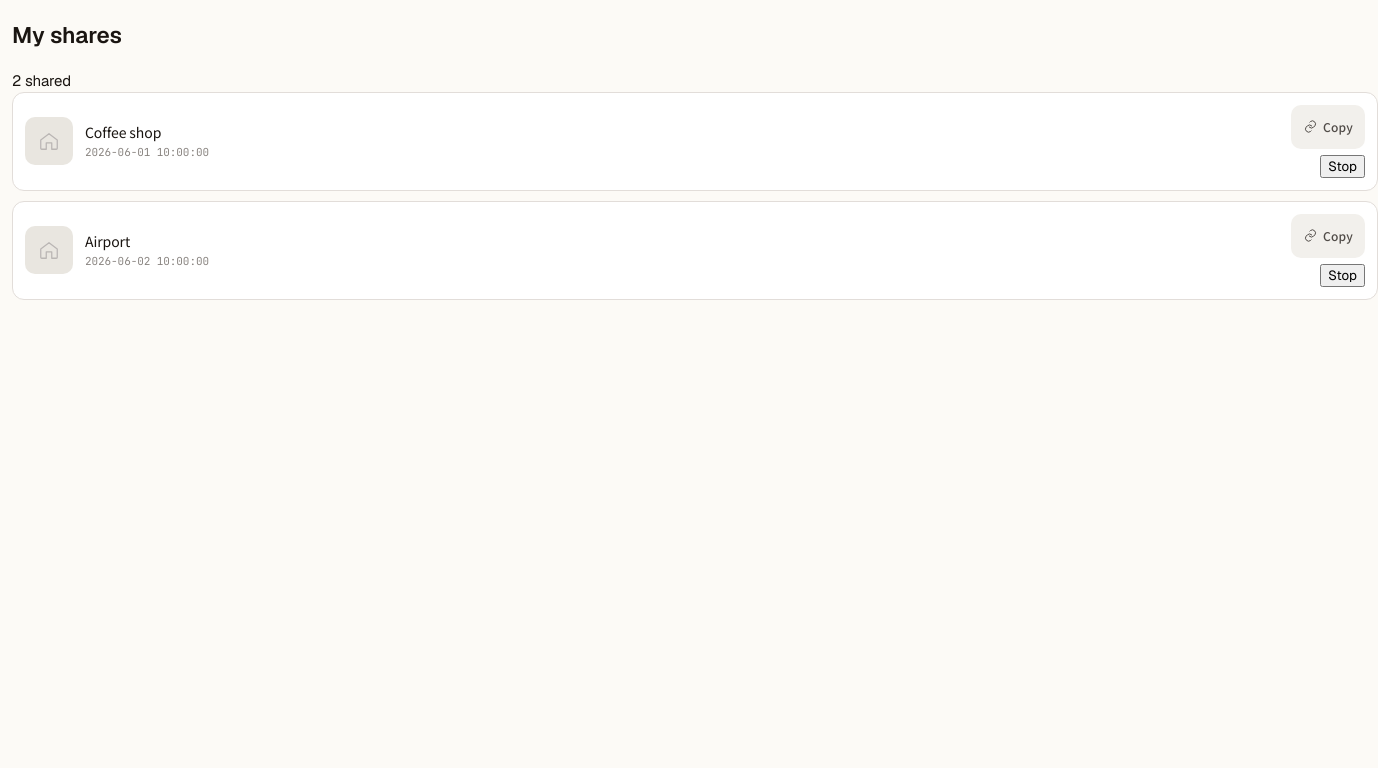
it: ManageSharesPage › removes an item after stopping its share
Expected: the text "Coffee shop" is shown, left=85, top=122, right=161, bottom=142
Click the button "Stop" in the row of "2026-06-01 10:00:00" at (1343, 166), box left=1320, top=155, right=1365, bottom=178
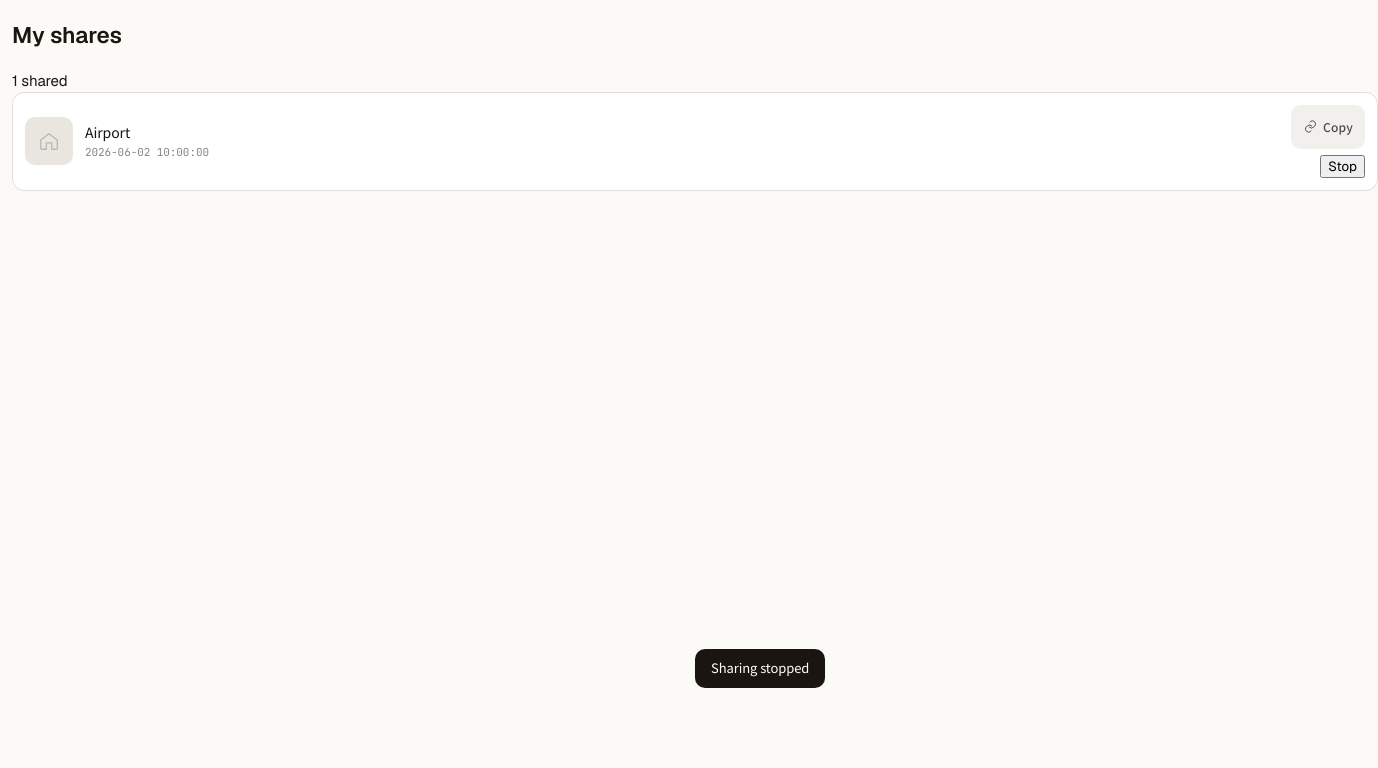
Result: the text "Coffee shop" is gone
